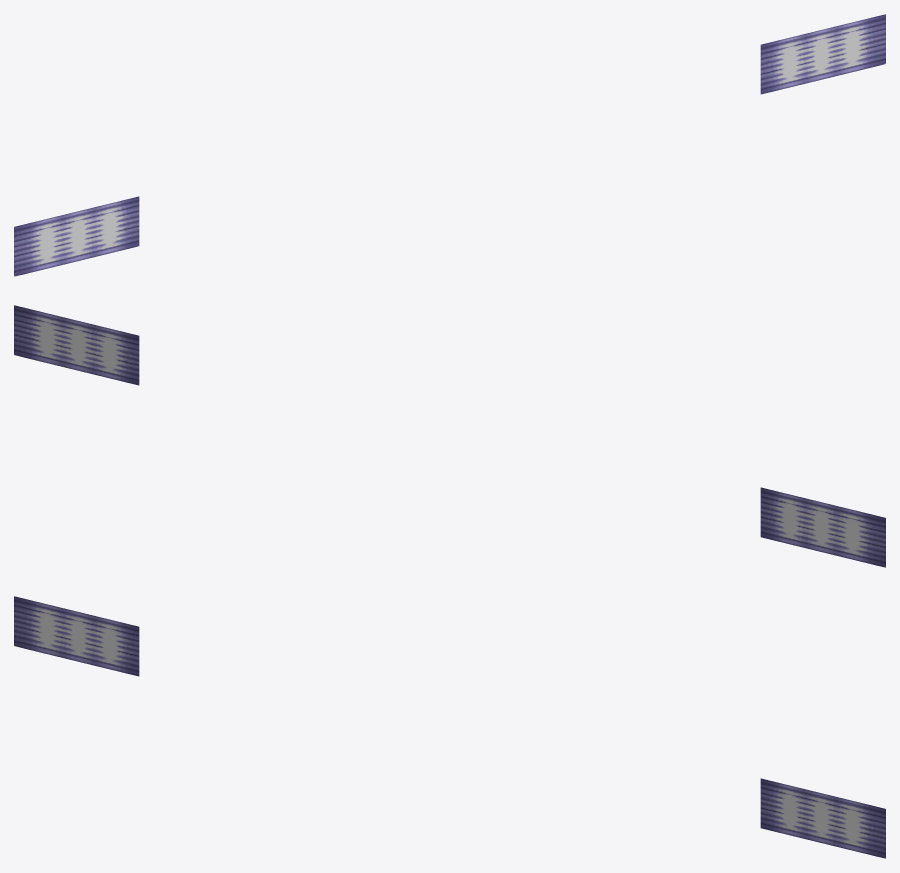
Rendered from yt1300_booster_s01_on_l3.fbx.
3 views of the same model, one above another, from view 1: azimuth 30°, elevation 25°; view 2: azimuth 150°, elevation 25°; view 3: azimuth 330°, elevation 25° (orthographic).
Parts seen in each view (by area): view 1: mesh_node; view 2: mesh_node; view 3: mesh_node.
Part boxes in pixels (<box>): mesh_node: <box>14,14,885,276</box>; mesh_node: <box>14,305,885,567</box>; mesh_node: <box>14,596,885,858</box>.
Size of the model in its own units: 9.7 by 0.5301 by 0.
Materials: 1 (1 with a texture image).
